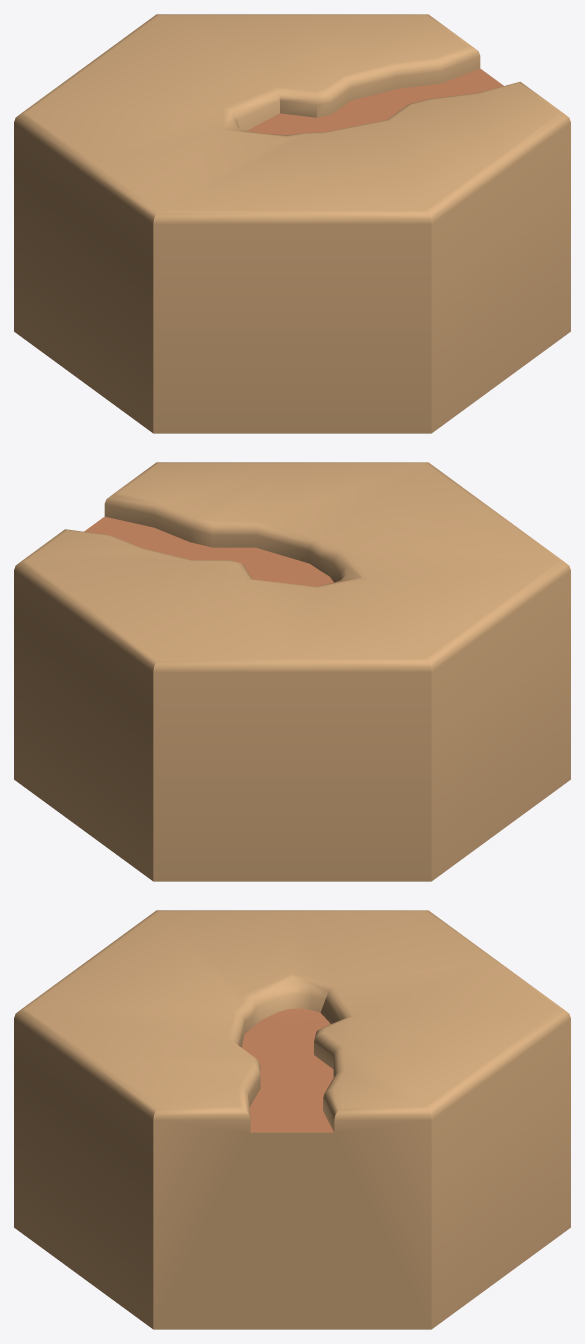
File: hex_sand_roadA.glb
The picture shows the model from 3 angles, top to bottom: view 1: azimuth 30°, elevation 25°; view 2: azimuth 150°, elevation 25°; view 3: azimuth 270°, elevation 25°; orthographic projection.
Parts seen in each view (by area): view 1: hex_sand_roadA; view 2: hex_sand_roadA; view 3: hex_sand_roadA.
Boxes of the visible parts, box(x1,y1,x2,y2) form: hex_sand_roadA: box(14, 14, 570, 433); hex_sand_roadA: box(14, 462, 570, 881); hex_sand_roadA: box(14, 910, 570, 1329).
Size of the model in its own units: 3.82 by 1.91 by 4.41.
